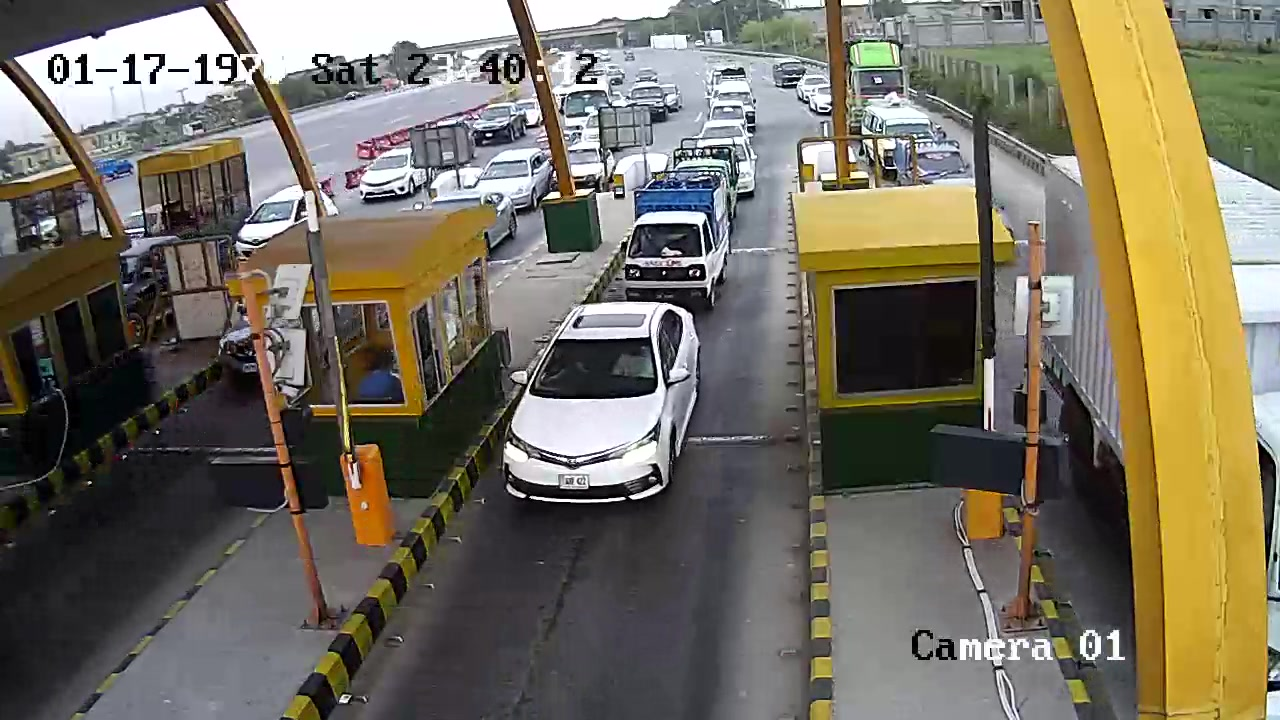F1: (489, 301, 748, 529)
